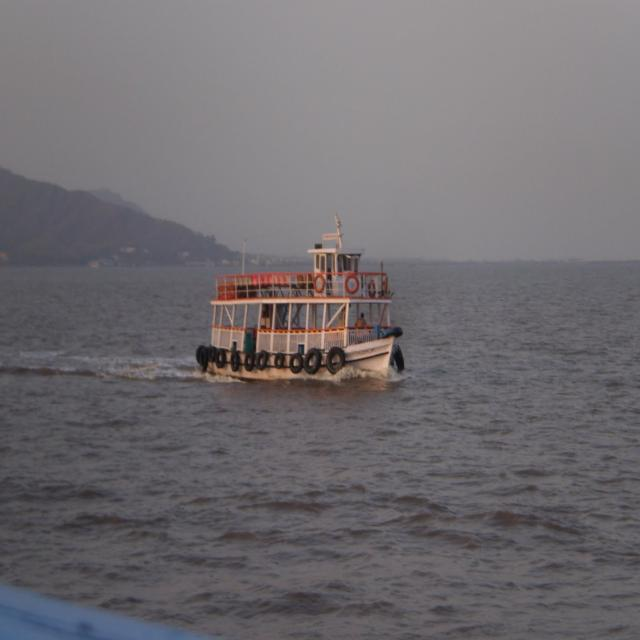fishing boat: (198, 220, 412, 389)
